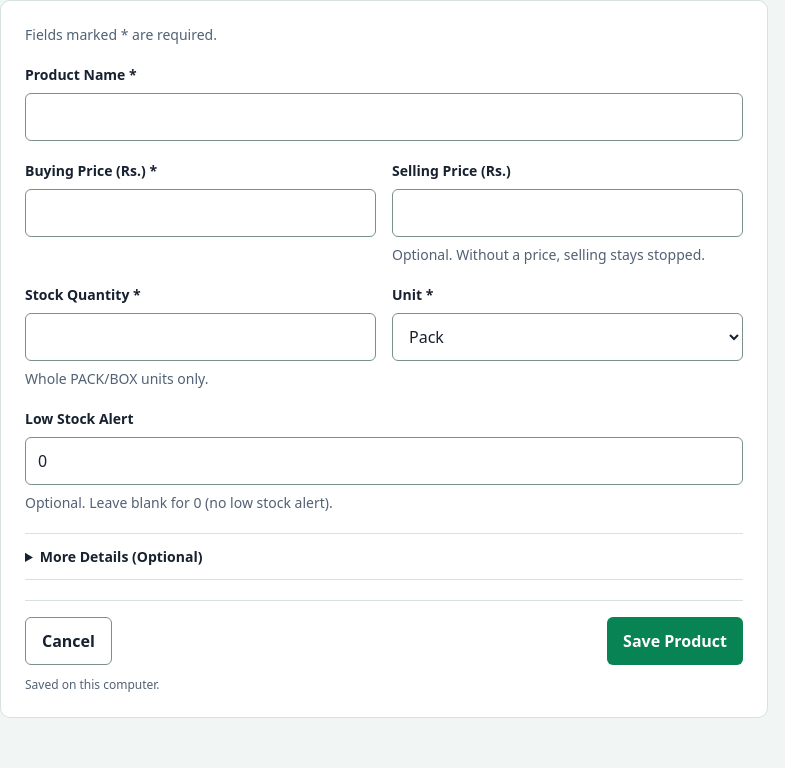
Test: marks selling price precisely and prevents a below-cost sale price
Type "diape" into the field labelled "Product Name *" at (384, 117), box [25,93,743,141]
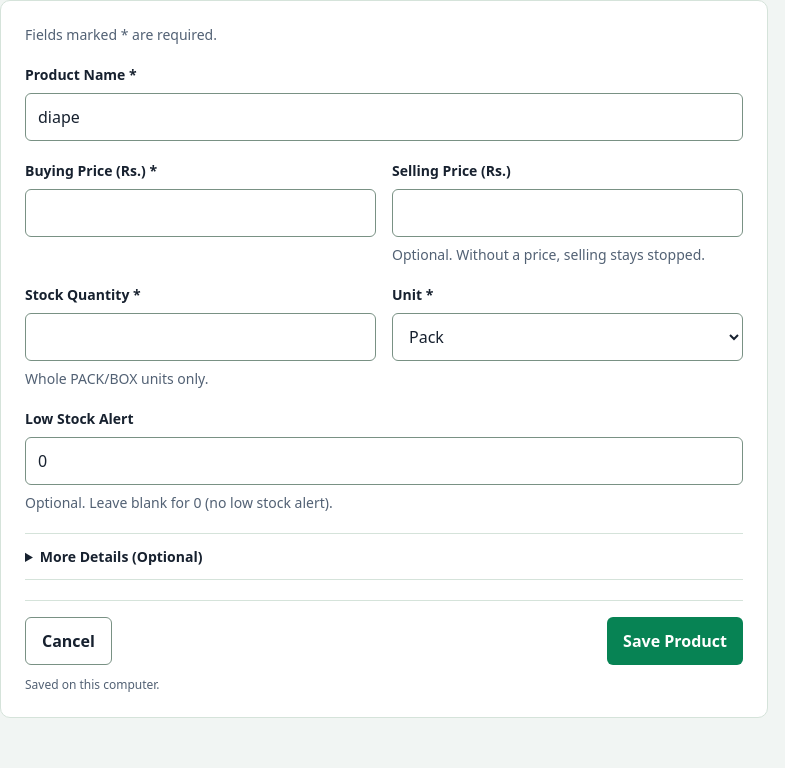
Type "10" into the field labelled "Buying Price (Rs.) *" at (200, 213), box [25,189,376,237]
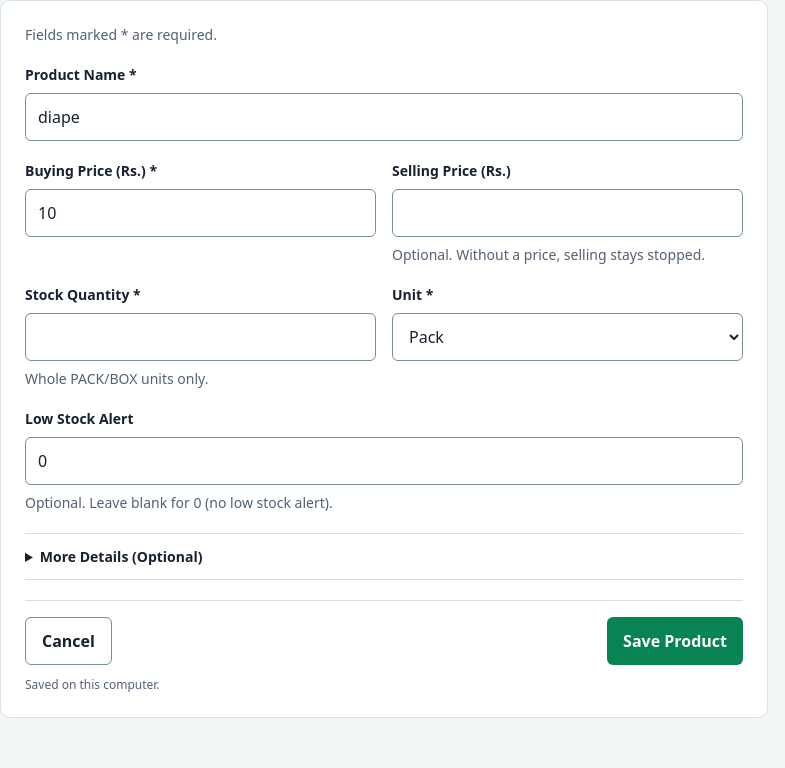
Type "30" into the field labelled "Selling Price (Rs.)" at (568, 213), box [392,189,743,237]
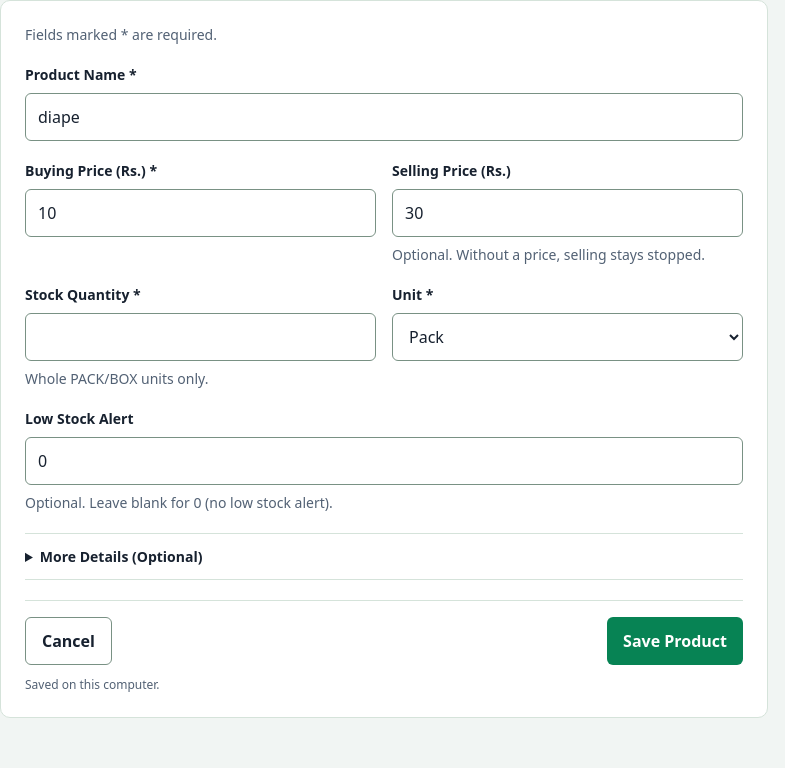
Type "2" into the field labelled "Stock Quantity *" at (200, 337), box [25,313,376,361]
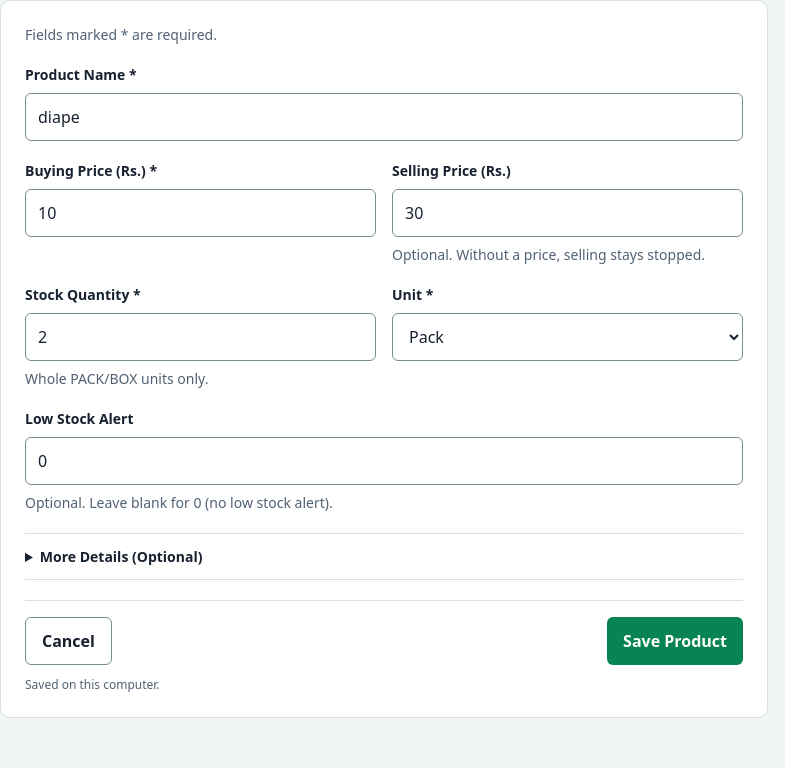
Replace the text in the field labelled "Selling Price (Rs.)" with "9" at (568, 213), box [392,189,743,237]
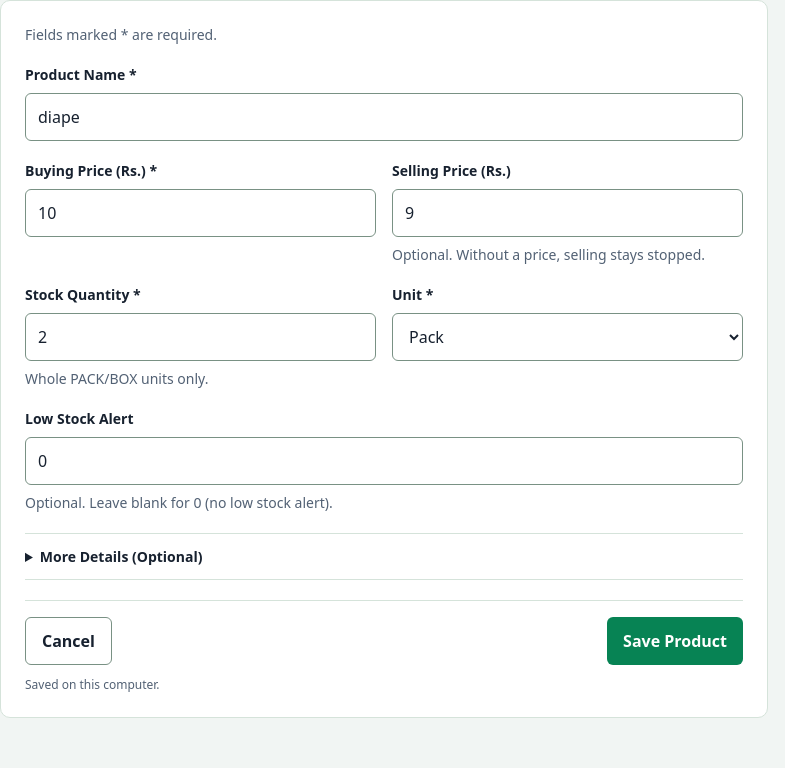
Submit the form named "Add product"
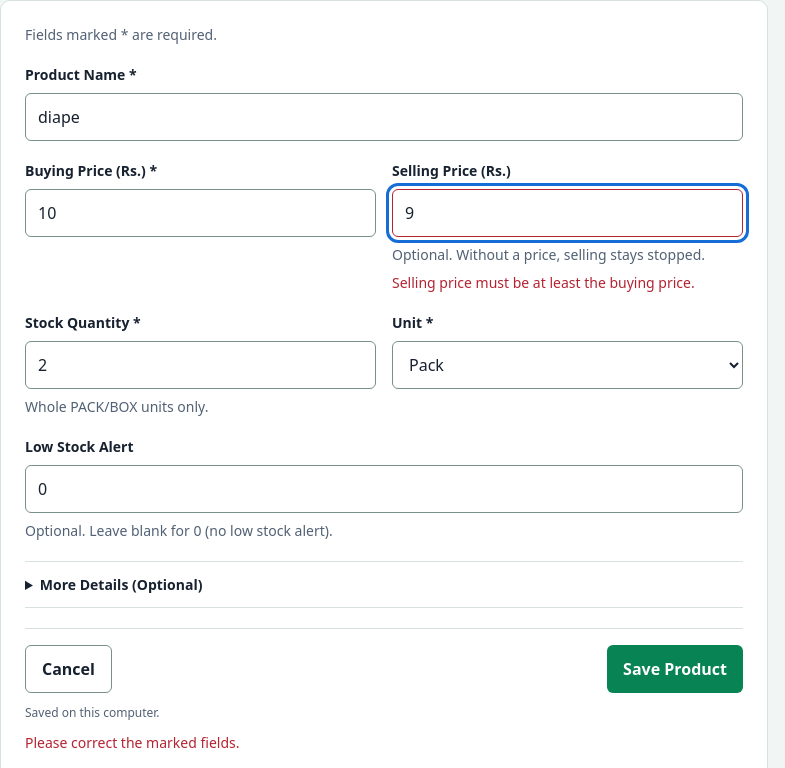
expect the text "Selling price must be at least the buying price." is shown: met, box [392,273,743,293]
